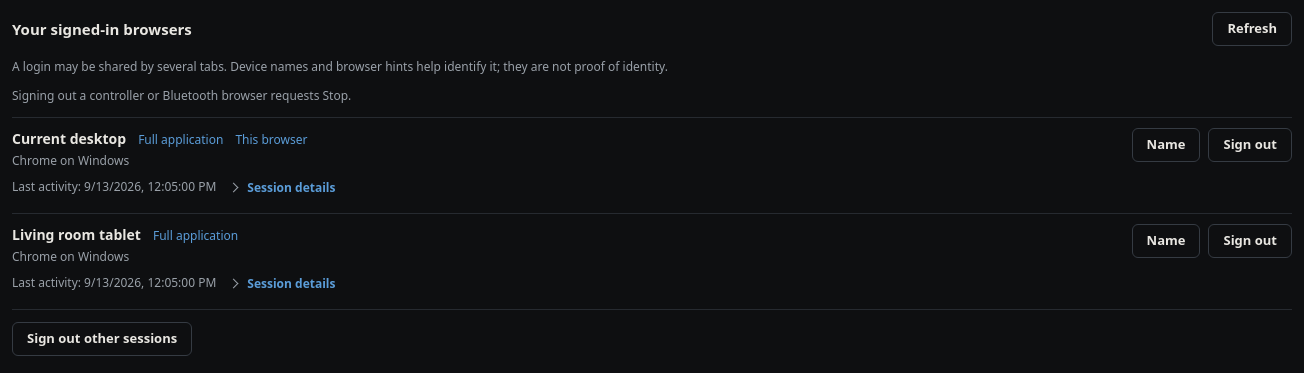
Scenario: own login management › reconciles a lost mutation response without replaying it
Expected: the text "Living room tablet" is shown, top-left (12, 224), bottom-right (141, 245)
Click the button "Sign out other sessions" at (102, 339), box top-left (12, 322), bottom-right (192, 356)
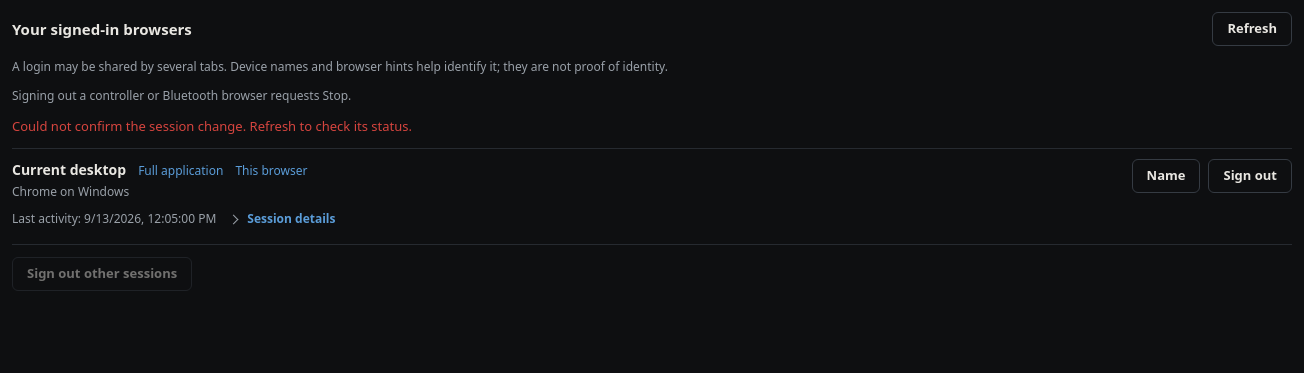
Expected: the message shows "Could not confirm the session change", top-left (12, 117), bottom-right (412, 135)
Expected: the text "Living room tablet" is gone
Expected: the button "Sign out other sessions" is disabled, top-left (12, 257), bottom-right (192, 291)
